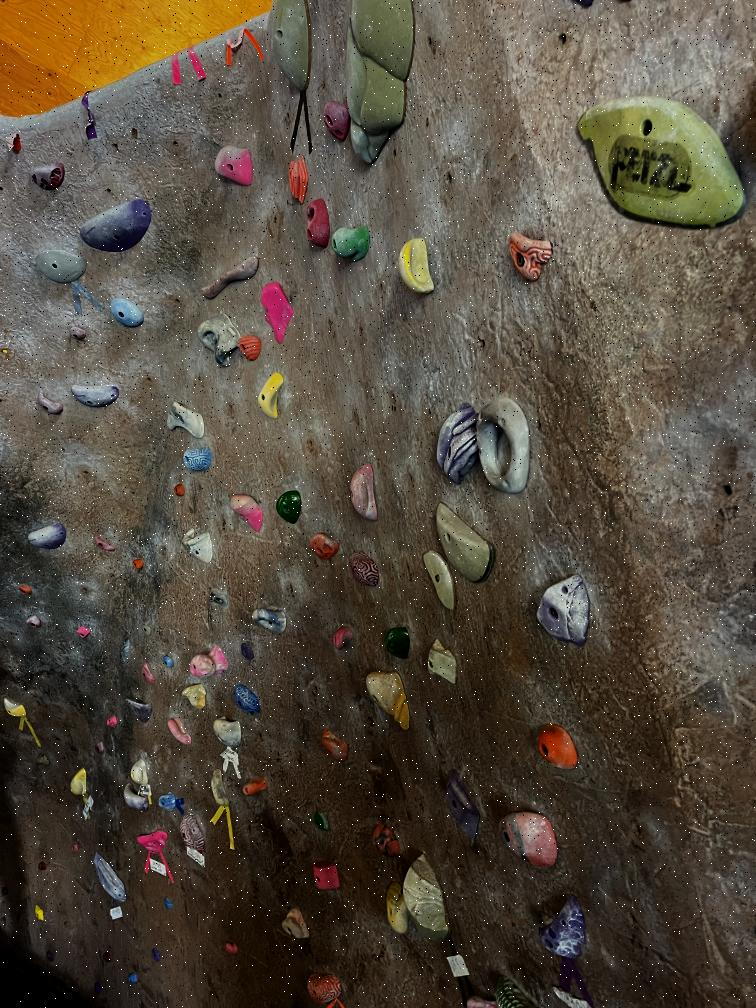Crimp: (530, 566, 591, 661), (434, 498, 496, 584), (536, 885, 595, 971), (433, 398, 478, 486), (421, 550, 461, 611), (425, 636, 462, 690), (156, 792, 186, 815), (93, 533, 116, 555), (22, 611, 43, 632)
Edges: (405, 848, 454, 953), (198, 253, 260, 300), (92, 846, 127, 912)
Foothold: (534, 720, 582, 771), (307, 806, 338, 839), (62, 314, 91, 348), (331, 622, 356, 654), (237, 637, 258, 664), (72, 621, 91, 642), (147, 945, 166, 964), (221, 938, 240, 956), (128, 558, 150, 573), (17, 581, 36, 598), (31, 904, 47, 924), (104, 713, 120, 733), (173, 480, 189, 500), (125, 968, 141, 987), (90, 976, 106, 994), (160, 897, 178, 912), (140, 621, 155, 638), (160, 653, 174, 671), (35, 859, 51, 874), (69, 840, 81, 857), (100, 947, 111, 964)
Jug: (561, 81, 753, 242), (494, 809, 568, 875), (79, 199, 151, 253), (392, 228, 437, 302), (503, 227, 556, 286), (362, 671, 412, 732), (193, 307, 240, 369), (258, 280, 294, 345), (211, 143, 258, 189), (70, 377, 128, 414), (374, 616, 416, 661), (21, 157, 74, 191), (187, 643, 230, 684), (382, 880, 411, 940), (33, 251, 86, 283), (317, 92, 350, 143), (174, 524, 214, 566), (330, 228, 374, 264), (24, 519, 68, 555), (247, 601, 291, 637), (228, 493, 264, 534), (106, 296, 147, 332), (304, 530, 341, 568), (316, 725, 352, 764), (210, 712, 242, 754), (207, 766, 233, 817), (276, 488, 308, 528), (33, 385, 67, 422), (122, 693, 158, 723), (179, 446, 215, 476), (166, 710, 193, 748), (235, 328, 263, 364), (132, 828, 170, 854), (120, 784, 148, 816), (179, 682, 207, 710)
Pinch: (430, 764, 488, 844), (249, 366, 290, 426), (341, 454, 378, 520), (162, 400, 209, 441), (280, 902, 313, 948), (308, 858, 343, 896), (287, 156, 312, 206), (63, 763, 91, 804), (241, 772, 270, 802), (129, 754, 153, 788), (0, 698, 30, 723)
Pocket: (472, 387, 539, 507), (304, 194, 331, 251)
Sloper: (366, 819, 404, 864), (344, 545, 382, 587), (302, 970, 344, 1004), (177, 809, 205, 852), (231, 679, 263, 716)
